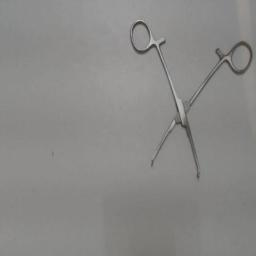Allis Tissue Forceps: (127, 16, 255, 184)
